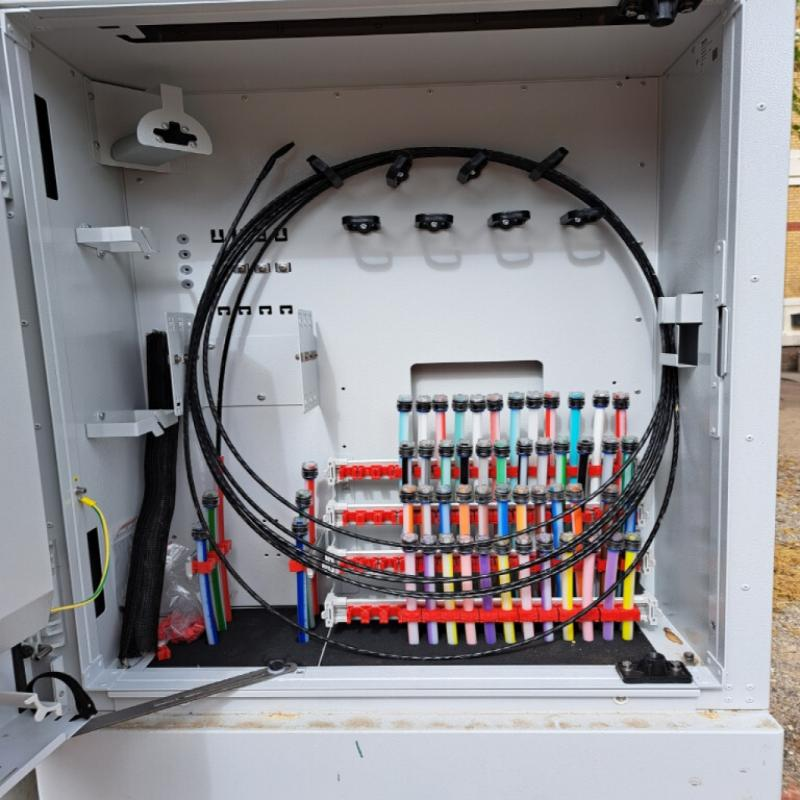NT-Gehause: (15, 5, 786, 800)
